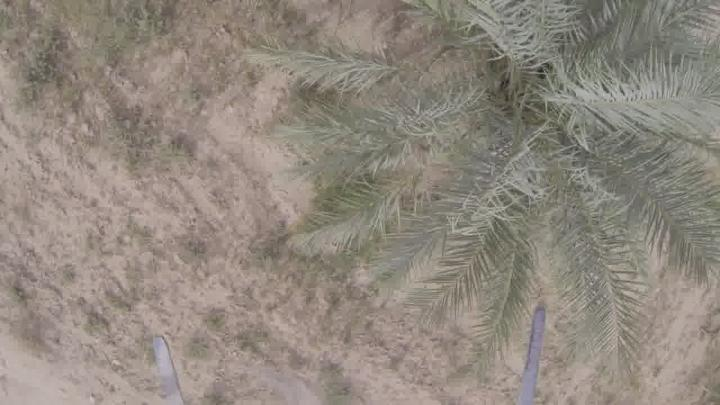Date-Palm-Crown: (363, 0, 697, 246)
